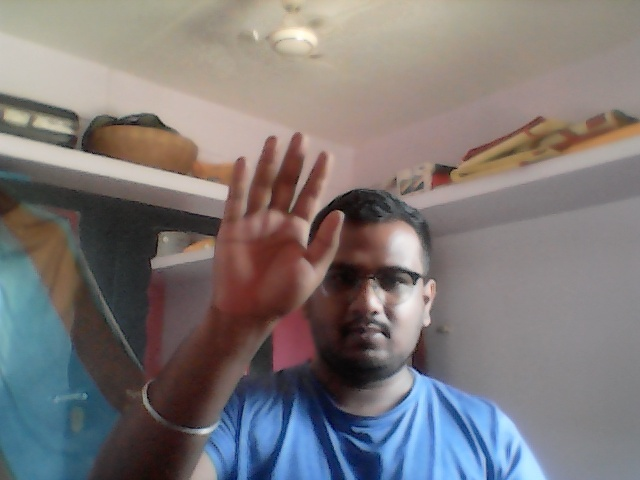Hello: (209, 130, 350, 320)
